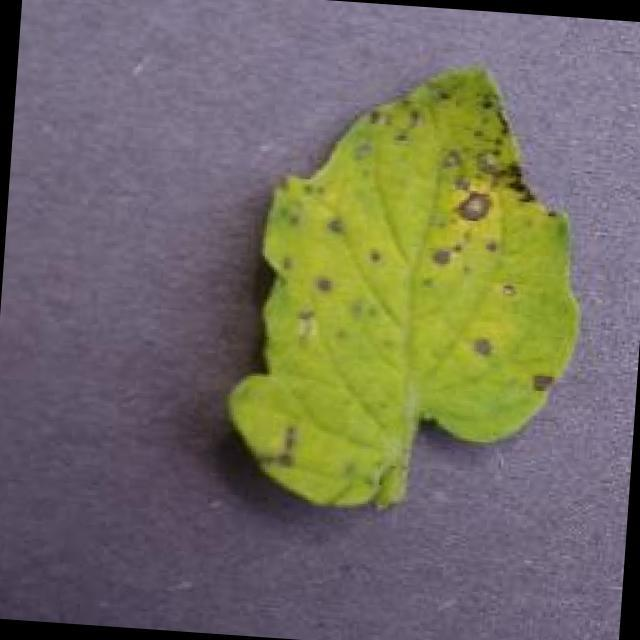Tomato Septoria spot leaf: (218, 48, 602, 528)
